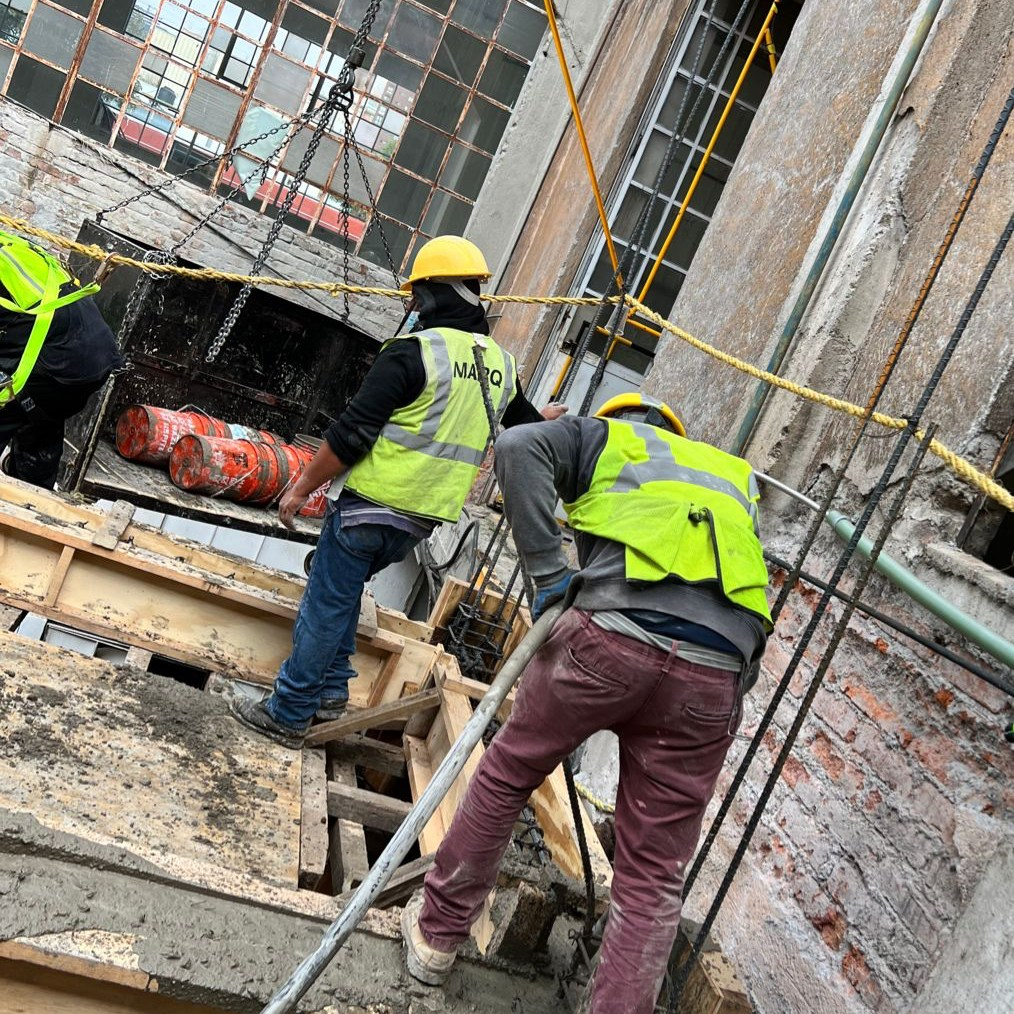Casco de seguridad: (401, 235, 490, 289)
